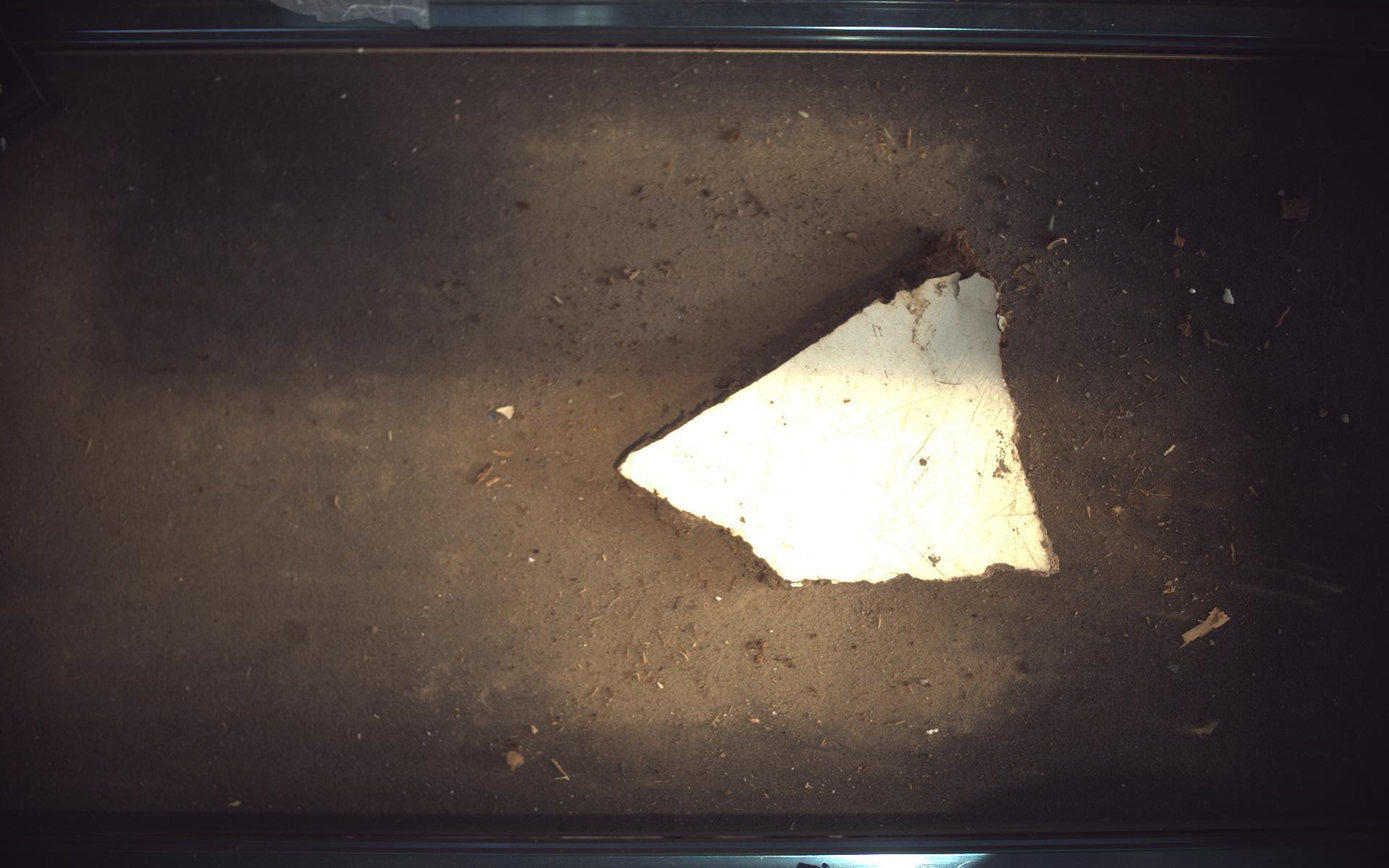wood: (620, 272, 1060, 584)
